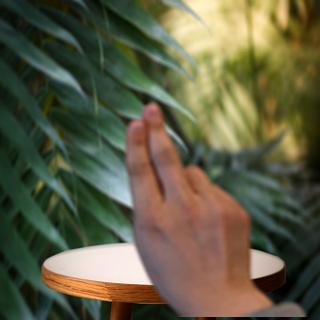DHAVE: (112, 97, 256, 302)
